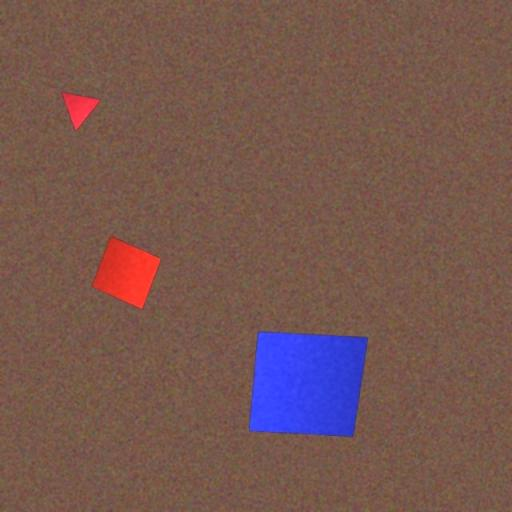BLUE_SQUARE: (249, 330, 369, 438)
RED_SQUARE: (92, 236, 162, 310)
